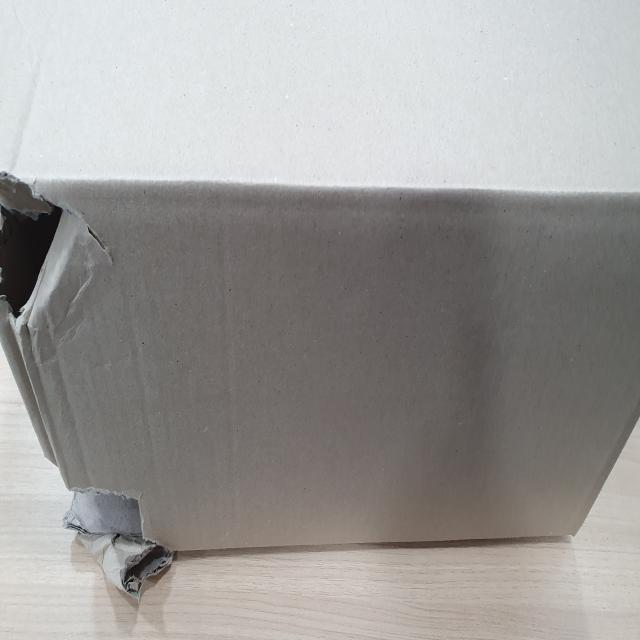hole: (0, 164, 121, 344), (65, 454, 168, 593)
